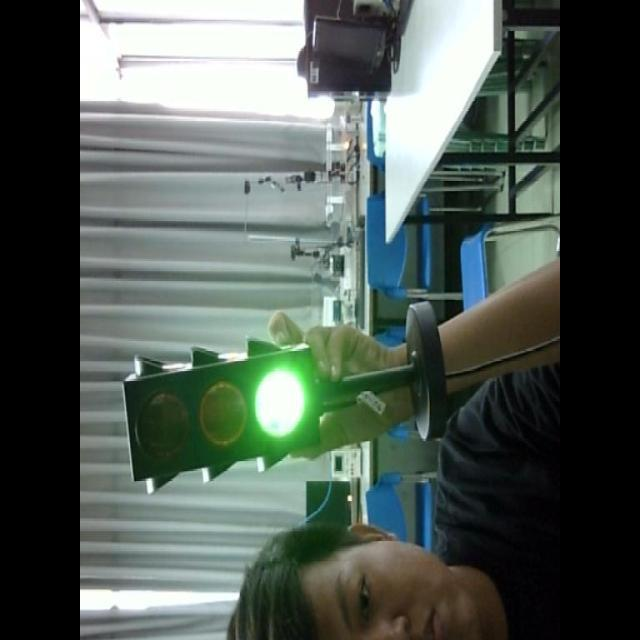green_light: (122, 338, 410, 478)
